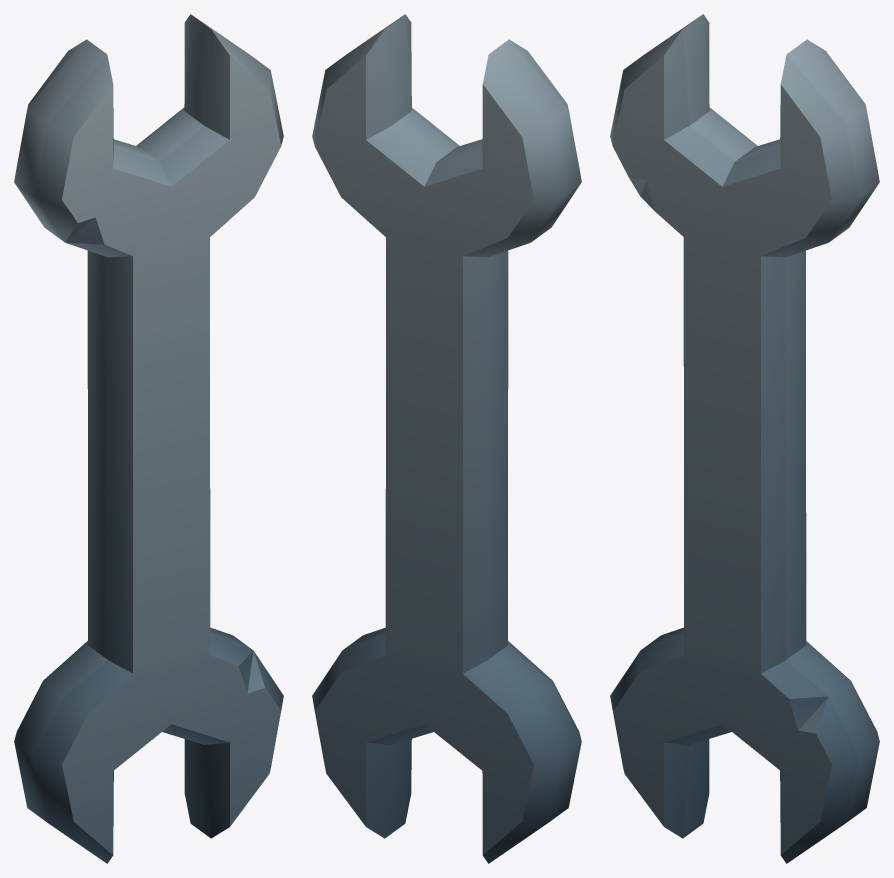
File: wrench_b.glb
3 views of the same model, side by side, from view 1: azimuth 30°, elevation 25°; view 2: azimuth 150°, elevation 25°; view 3: azimuth 330°, elevation 25° (orthographic).
Parts seen in each view (by area): view 1: wrench_B; view 2: wrench_B; view 3: wrench_B.
Boxes of the visible parts, x1=… form: wrench_B: x1=14, y1=14, x2=283, y2=863; wrench_B: x1=312, y1=14, x2=581, y2=863; wrench_B: x1=610, y1=14, x2=879, y2=863.
Size of the model in its own units: 0.1583 by 0.4914 by 0.0497.
1 material, 1 textured.
